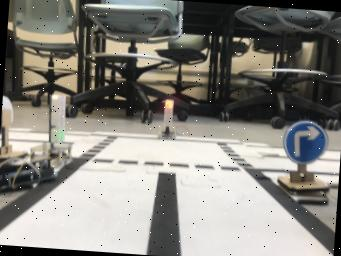right: (276, 119, 329, 204), (276, 119, 329, 204), (276, 119, 329, 204), (276, 119, 329, 204), (276, 119, 329, 204), (276, 119, 329, 204)
street: (0, 132, 334, 256), (0, 132, 334, 256), (0, 132, 334, 256), (0, 132, 334, 256), (0, 132, 334, 256), (0, 132, 334, 256)
traffic_light: (43, 94, 71, 167), (43, 94, 71, 167), (43, 94, 71, 167), (43, 94, 71, 167), (43, 94, 71, 167), (43, 94, 71, 167), (157, 99, 175, 139), (157, 99, 175, 139), (157, 99, 175, 139), (157, 99, 175, 139), (157, 99, 175, 139), (157, 99, 175, 139)
